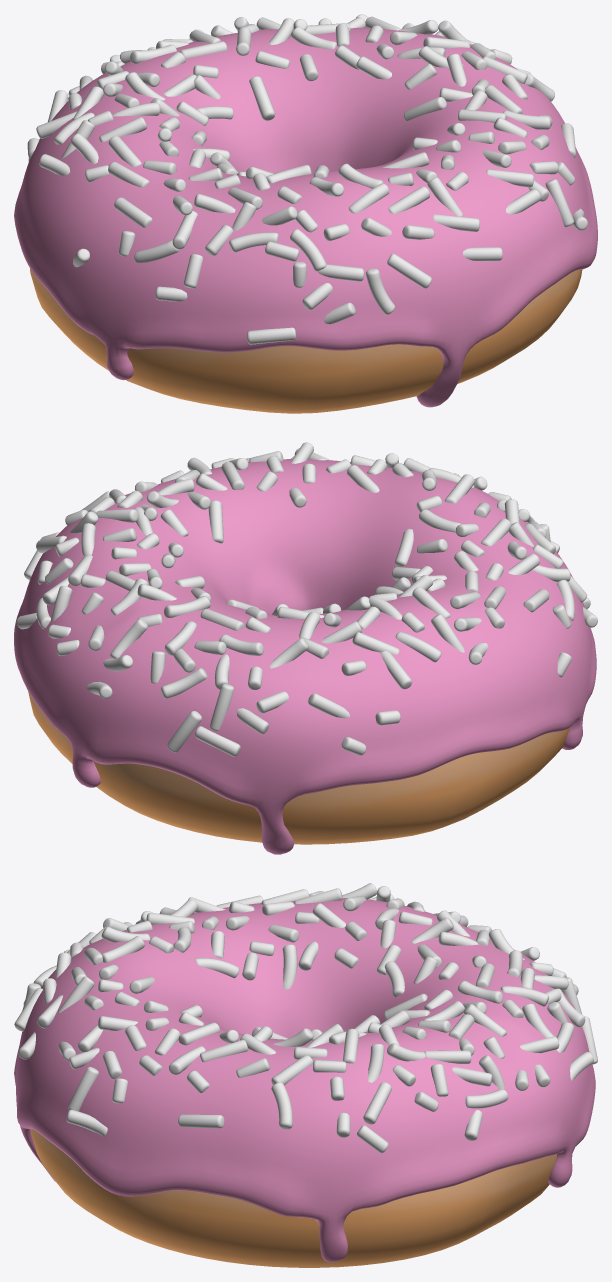
File: donut.fbx
3 views of the same model, one above another, from view 1: azimuth 30°, elevation 25°; view 2: azimuth 150°, elevation 25°; view 3: azimuth 270°, elevation 25° (orthographic).
Visible parts, largest first — view 1: Icing.008, Donut.008; view 2: Icing.008, Donut.008; view 3: Icing.008, Donut.008.
Boxes of the visible parts, left/top/right/bottom form: Icing.008: left=14, top=14, right=597, bottom=407; Donut.008: left=30, top=268, right=582, bottom=413; Icing.008: left=14, top=442, right=597, bottom=854; Donut.008: left=28, top=691, right=570, bottom=844; Icing.008: left=14, top=883, right=597, bottom=1262; Donut.008: left=30, top=1129, right=557, bottom=1267.
Bounding box in the file's own units: 50.94 × 22.74 × 51.14.
